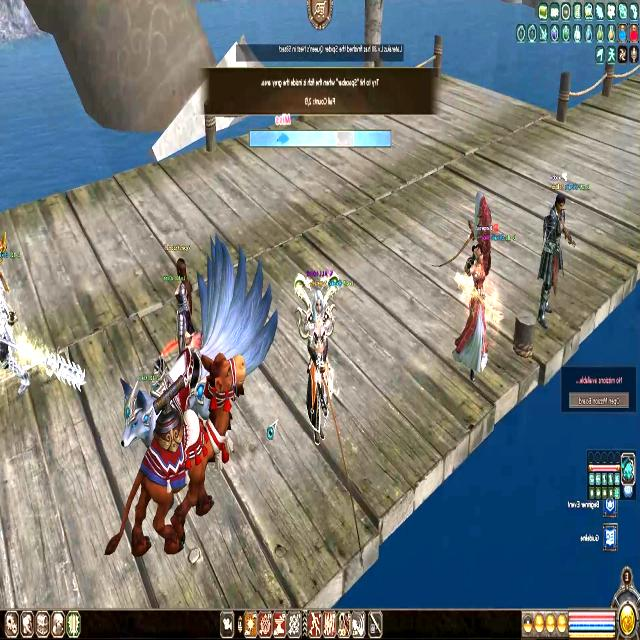fishes: (278, 132, 290, 145)
